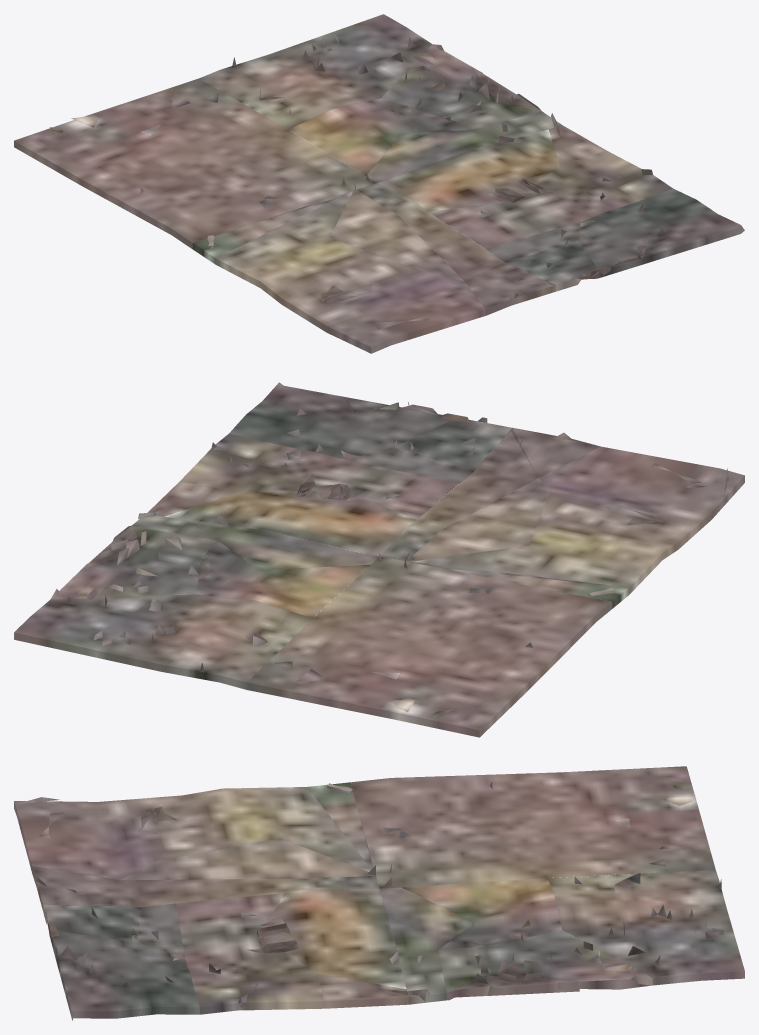
3 views of the same model, one above another, from view 1: azimuth 30°, elevation 25°; view 2: azimuth 150°, elevation 25°; view 3: azimuth 270°, elevation 25° (orthographic). The views are drawn at different scales.
Parts seen in each view (by area): view 1: Mesh_0; view 2: Mesh_0; view 3: Mesh_0.
Boxes of the visible parts, <box> form: Mesh_0: <box>14,14,744,353</box>; Mesh_0: <box>14,382,744,737</box>; Mesh_0: <box>14,766,744,1020</box>.
Size of the model in its own units: 2149 by 148 by 2635.
Materials: 1 (1 with a texture image).
